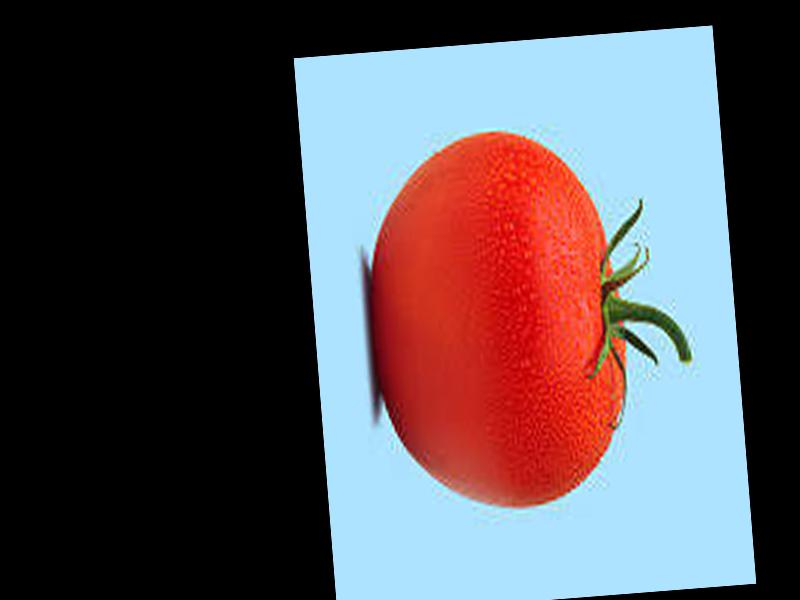Tomato: (361, 122, 635, 516)
